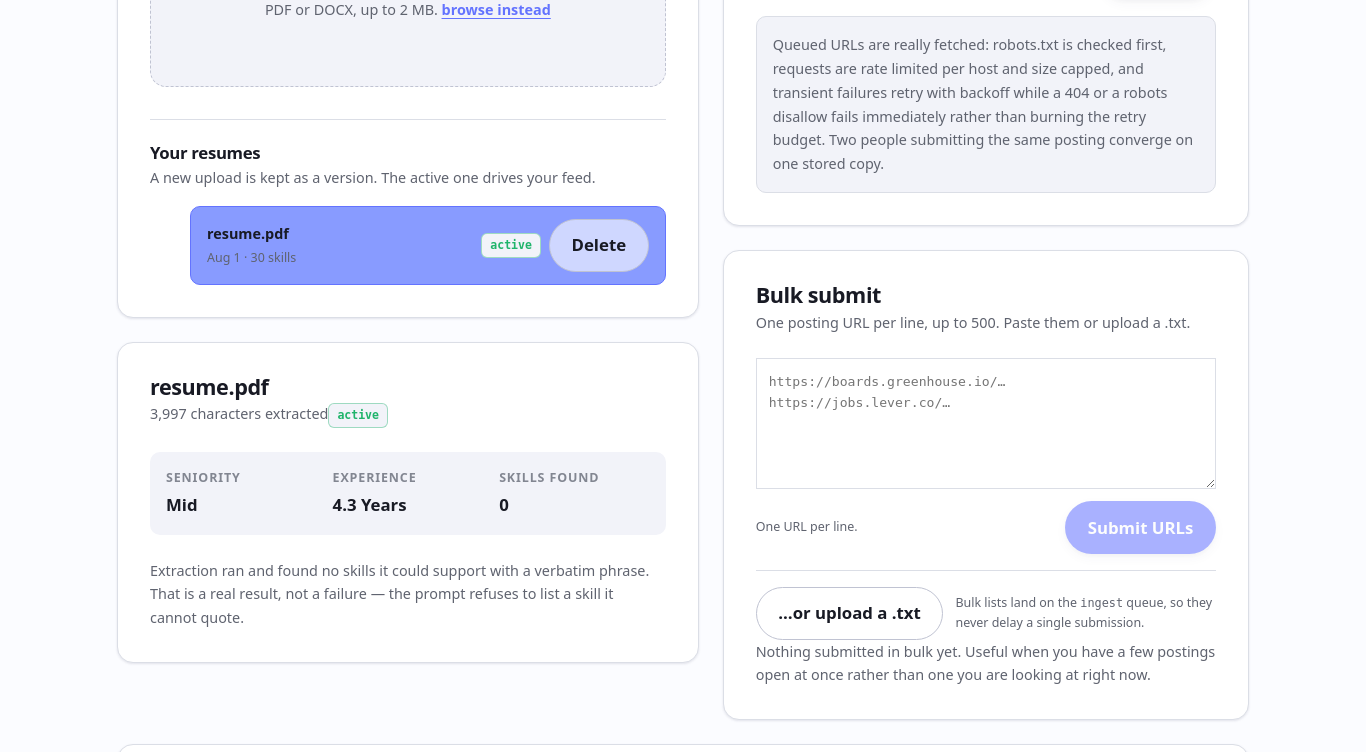
Test: bulk submit › accounts for every line the user sent
The image size is (1366, 752).
(page scrolled)
Type "https://a.example/1" into the text box named "job posting urls" at x=986, y=424, box [756, 358, 1216, 489]
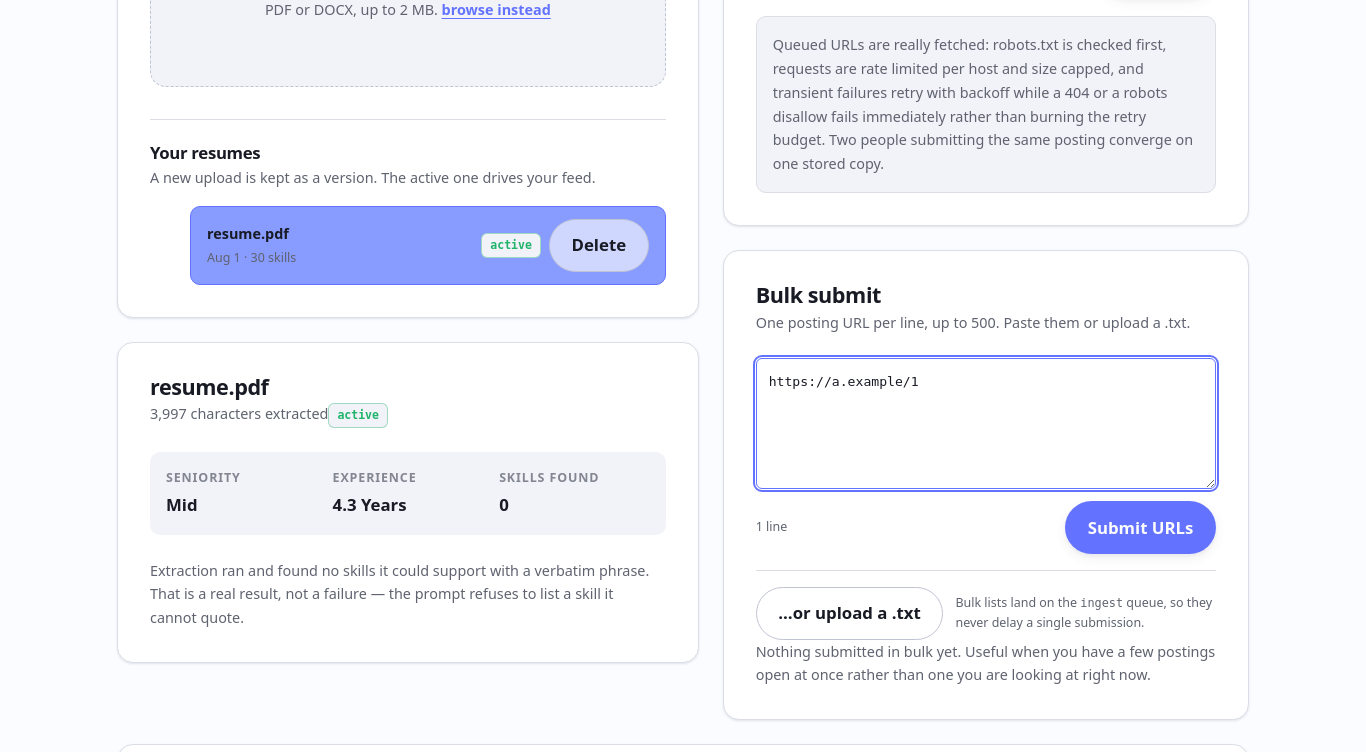
Click the button "Submit URLs" at x=1141, y=528, box [1065, 501, 1216, 554]
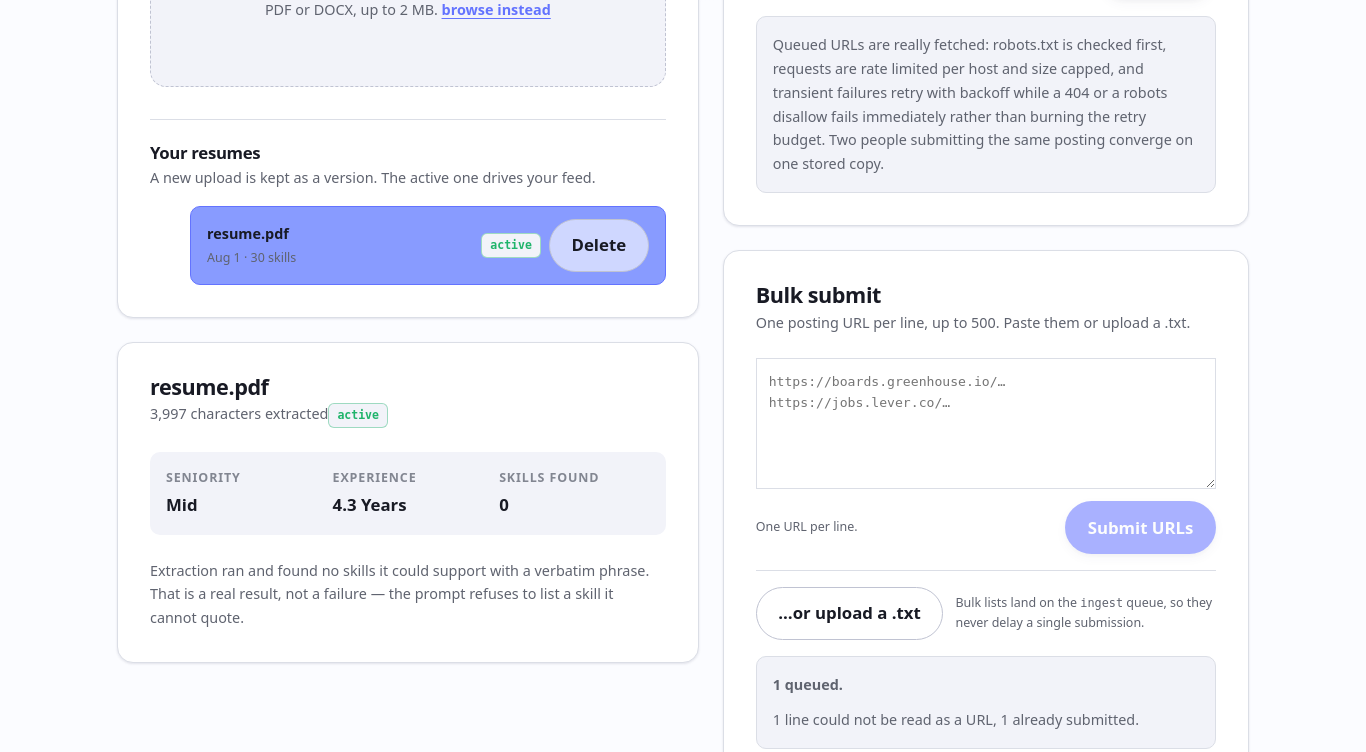
Check: the text "1 queued." is shown, box [773, 673, 843, 696]
Check: the text "could not be read as a URL" is shown, box [809, 710, 1000, 729]
Check: the text "1 already submitted" is shown, box [756, 656, 1216, 749]
